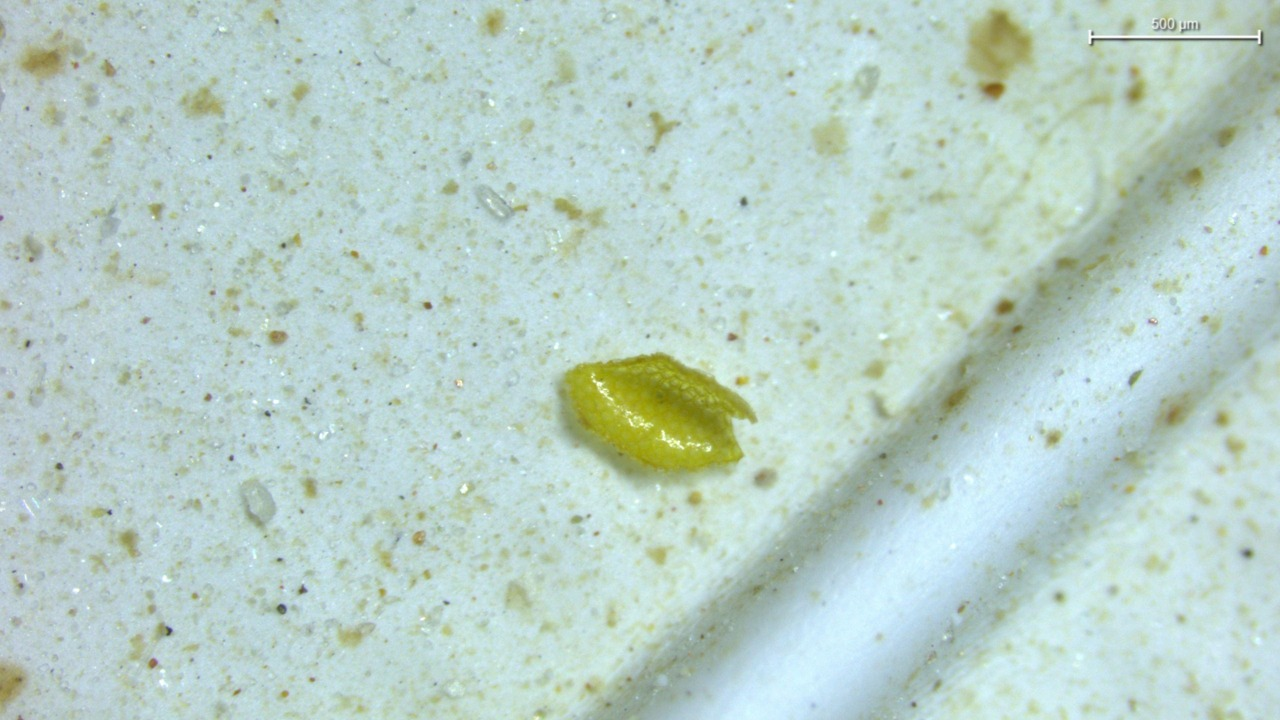microplastic_fragment: (563, 354, 755, 470), (239, 479, 276, 523), (474, 185, 517, 220)
